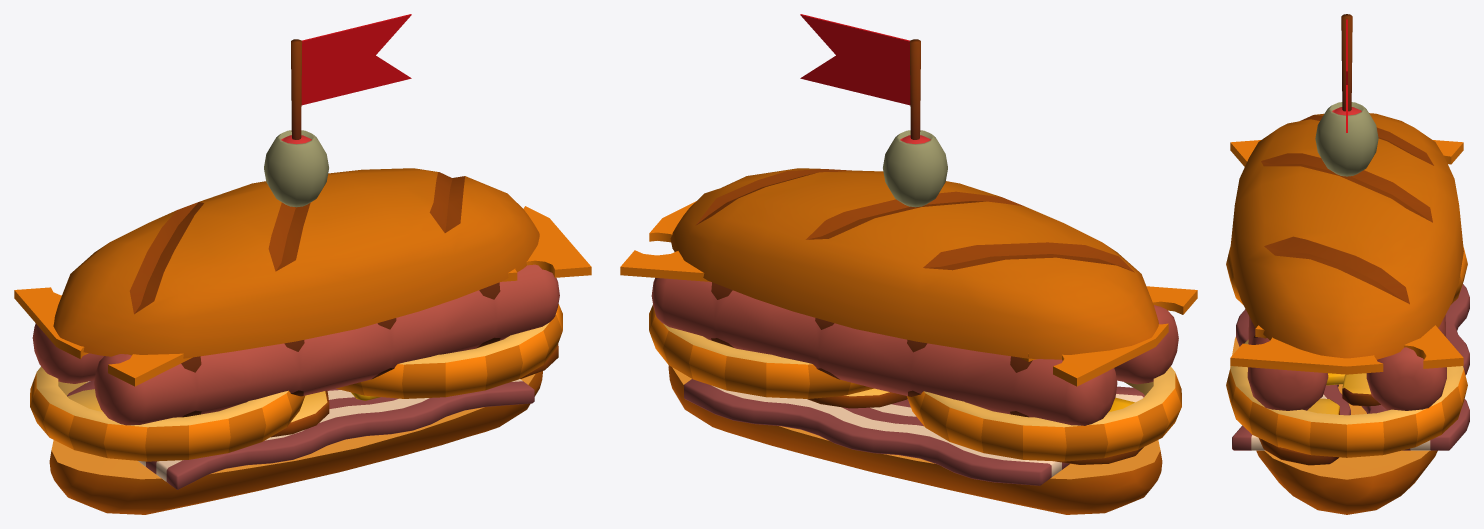
File: Sandwich_04.fbx
3 renders of one model, left to right at view 1: azimuth 30°, elevation 25°; view 2: azimuth 150°, elevation 25°; view 3: azimuth 270°, elevation 25°, orthographic. The views are drawn at different scales.
Parts seen in each view (by area): view 1: Sandwich_04; view 2: Sandwich_04; view 3: Sandwich_04.
Boxes of the visible parts, x1,y1,x2,y2 form: Sandwich_04: (14, 14, 591, 514); Sandwich_04: (620, 14, 1197, 514); Sandwich_04: (1226, 14, 1469, 514).
Bounding box in the file's own units: 182 × 78.39 × 145.
